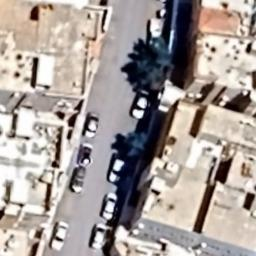SUV: (66, 166, 90, 196)
sedan: (107, 154, 129, 187), (82, 108, 104, 140), (88, 220, 110, 250), (100, 190, 120, 222), (131, 90, 152, 120), (50, 220, 70, 251)
unknown: (76, 142, 96, 169)
